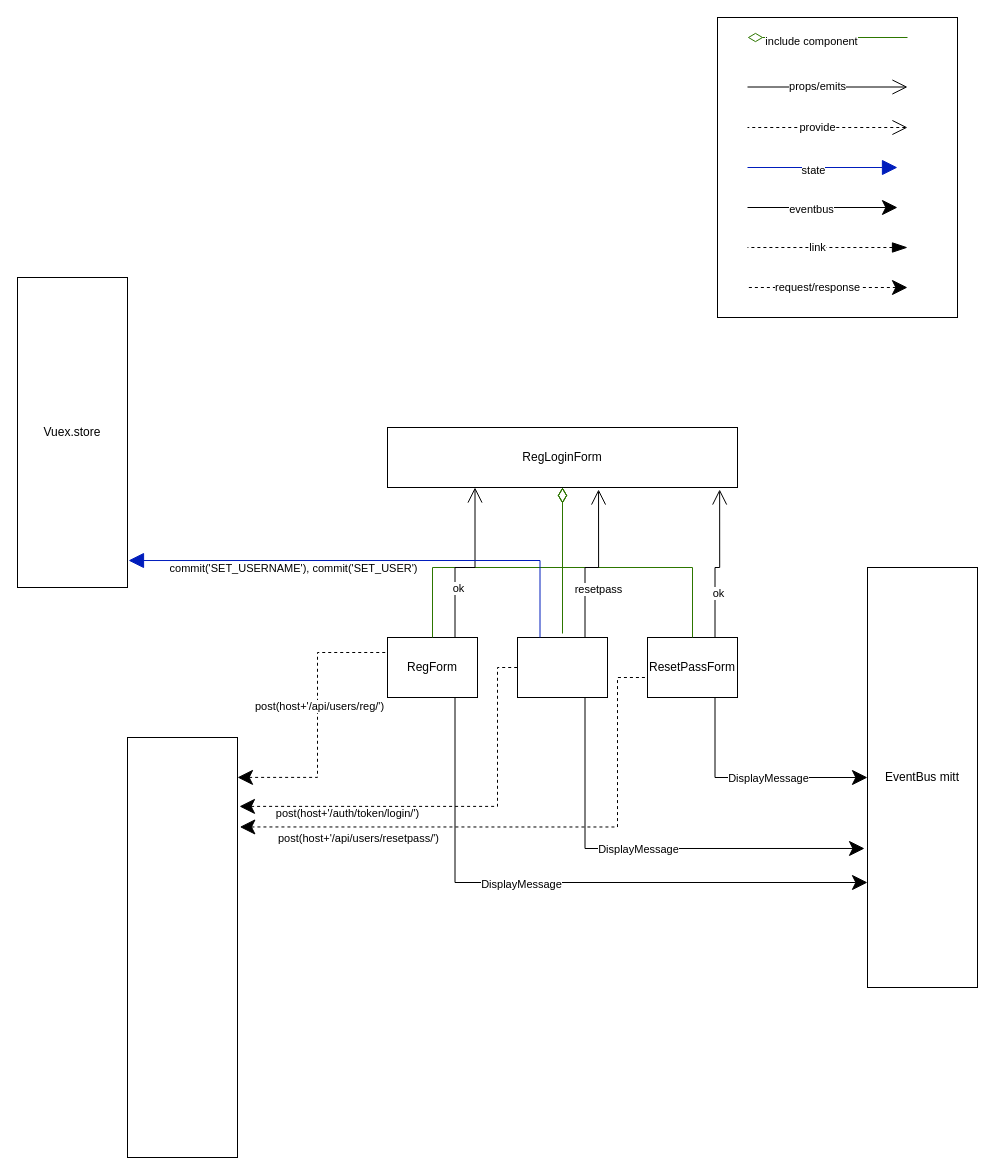
Some shapes in this 995 by 1175 pixel diagram are drawn without their labels. The centre of each missing label's shape, as x and y in pixels:
"LoginForm" goes at [562,667].
"Server" goes at [182,947].
